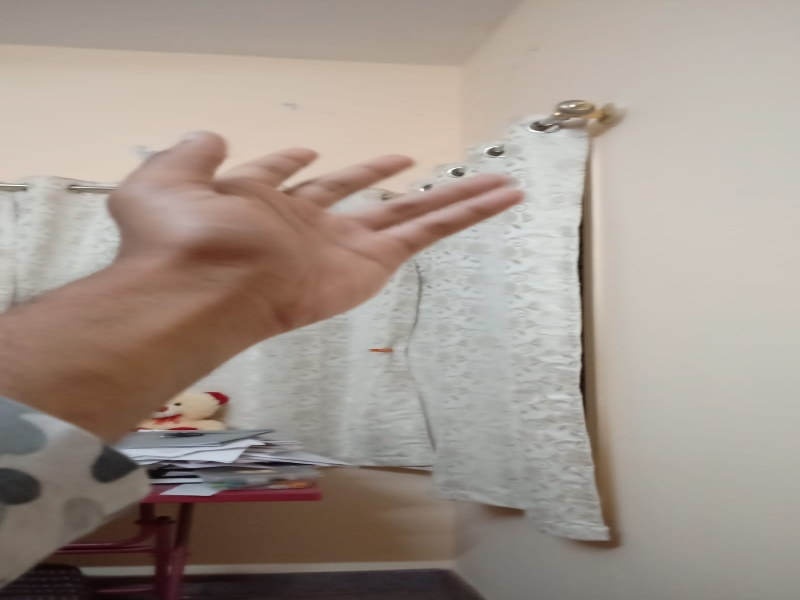Hand: (87, 123, 532, 330)
